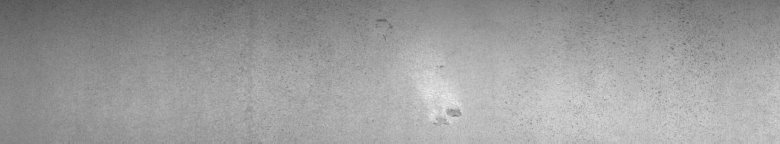ib: (598, 4, 693, 96)
